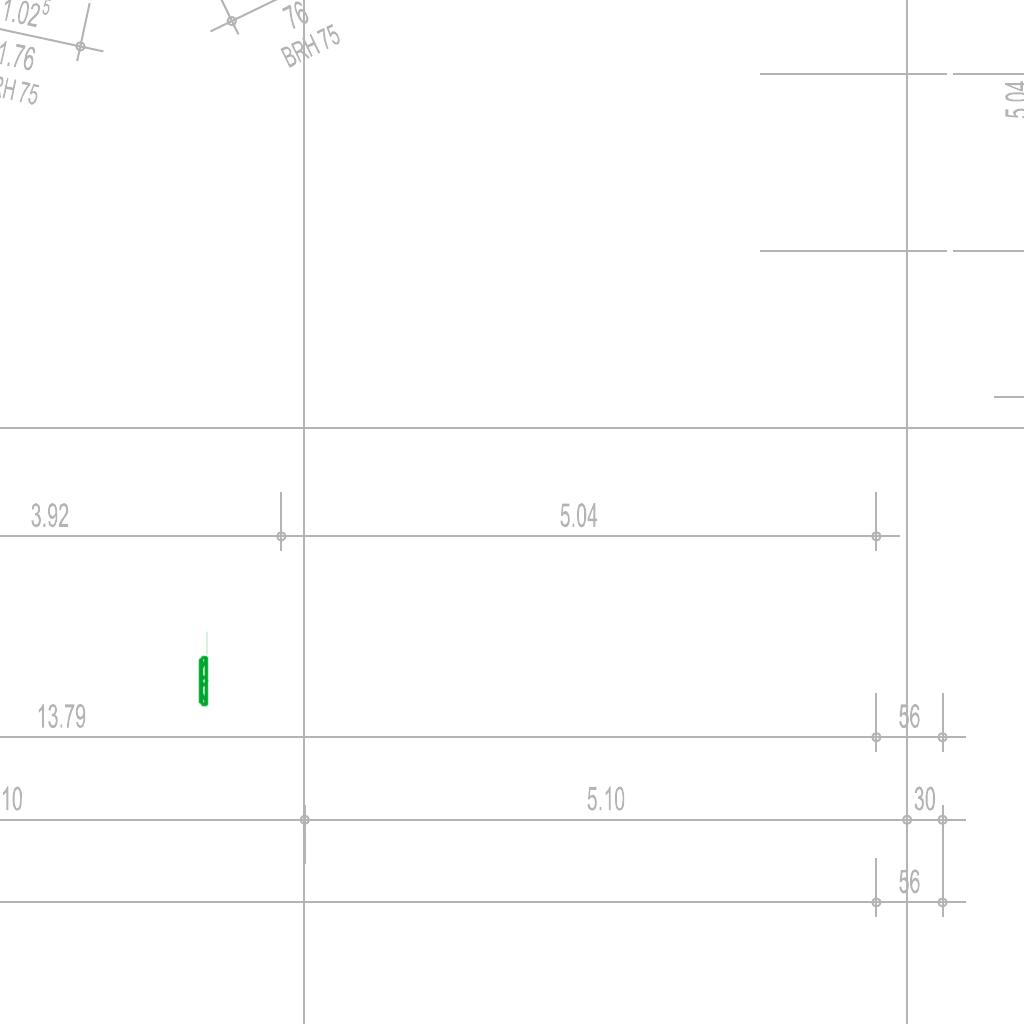Sicherheitsleuchte_Wandeinbau: (197, 629, 209, 708)
